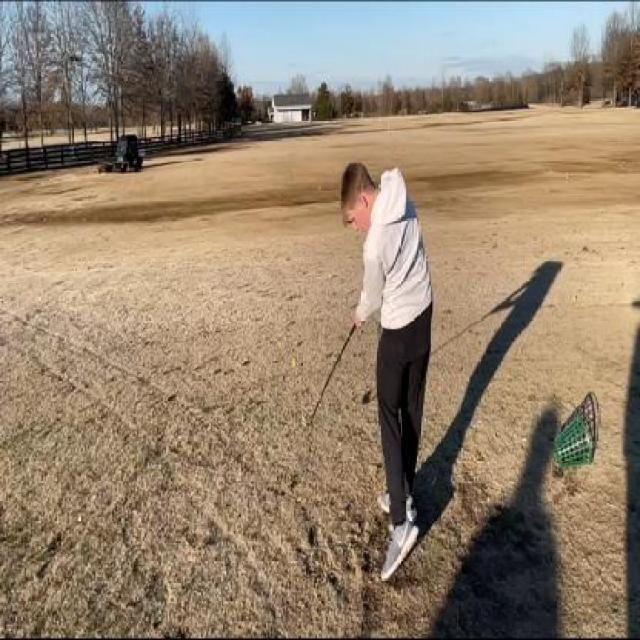club head: (297, 408, 315, 432)
